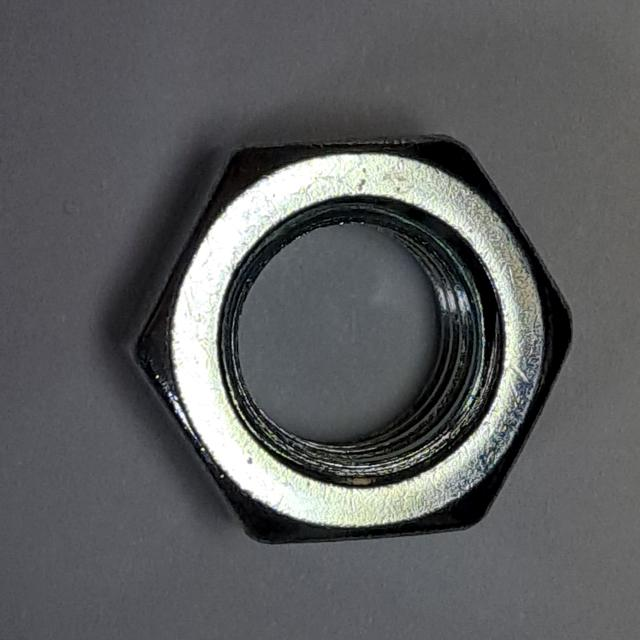Excellent: (111, 116, 591, 553)
